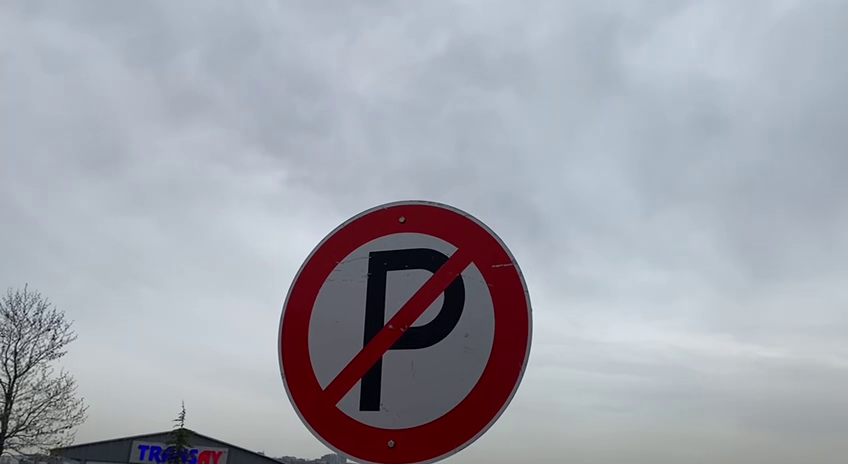noparking: (268, 194, 538, 463)
